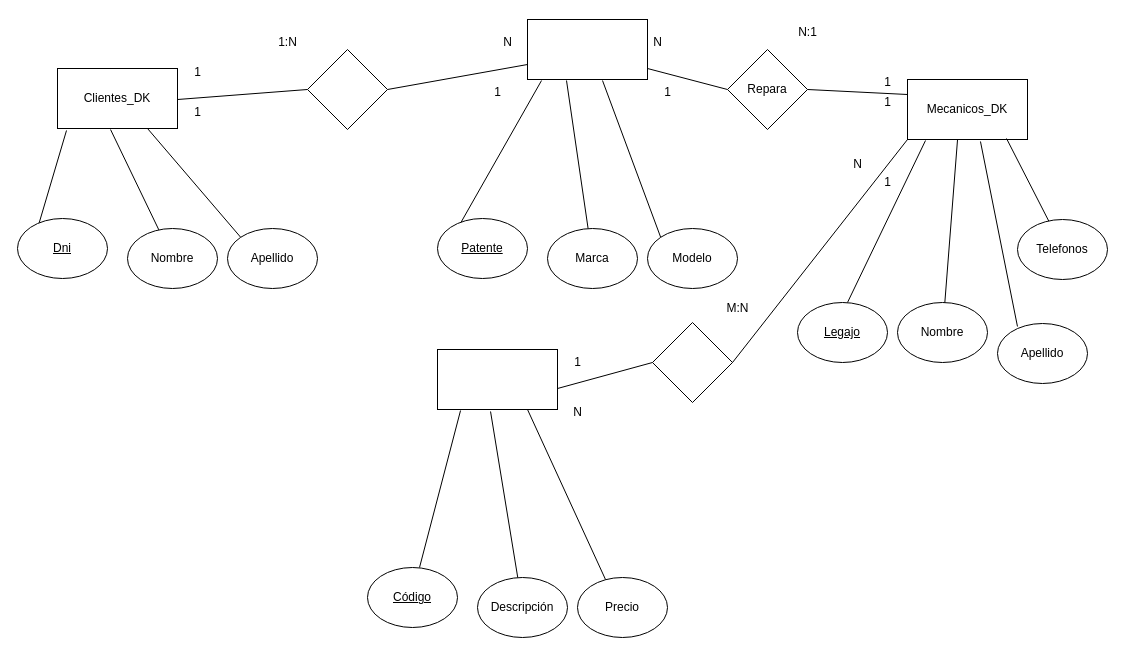
This 1125x655 diagram has some shape labels left out. Each missing label, with the centre of its shape:
"Compran" belongs at (x=692, y=362).
"Llevan" belongs at (x=347, y=89).
"Repuestos_DK" belongs at (x=497, y=379).
"Vehiculos_DK" belongs at (x=587, y=49).
